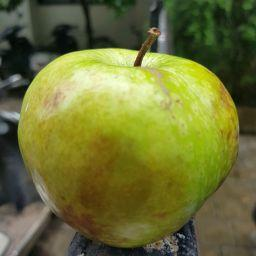apple: (9, 0, 248, 256)
